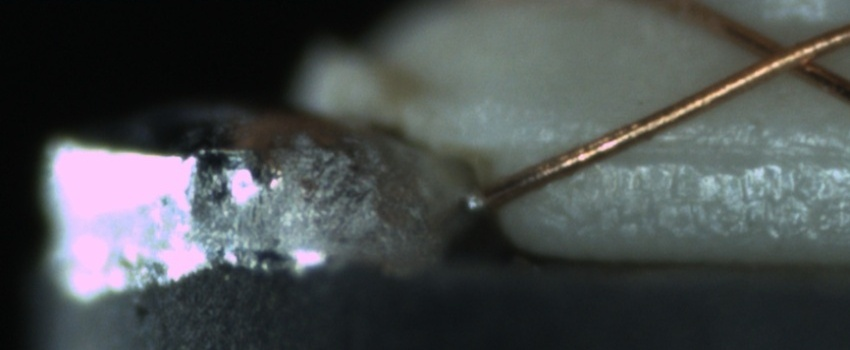CL: (735, 24, 840, 86)
DL: (569, 118, 844, 183)
